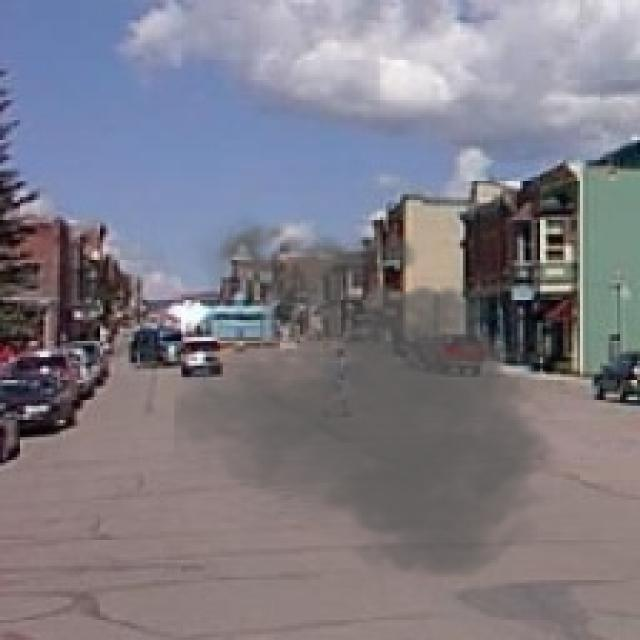Smoke: (174, 211, 572, 586)
